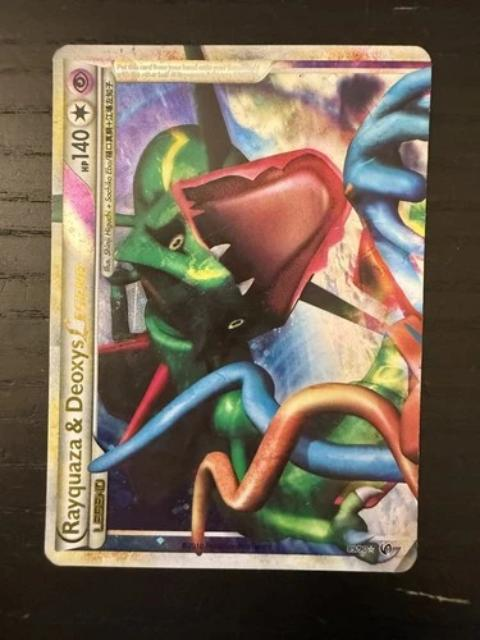Card: (39, 39, 435, 578)
Name: (56, 247, 96, 548)
